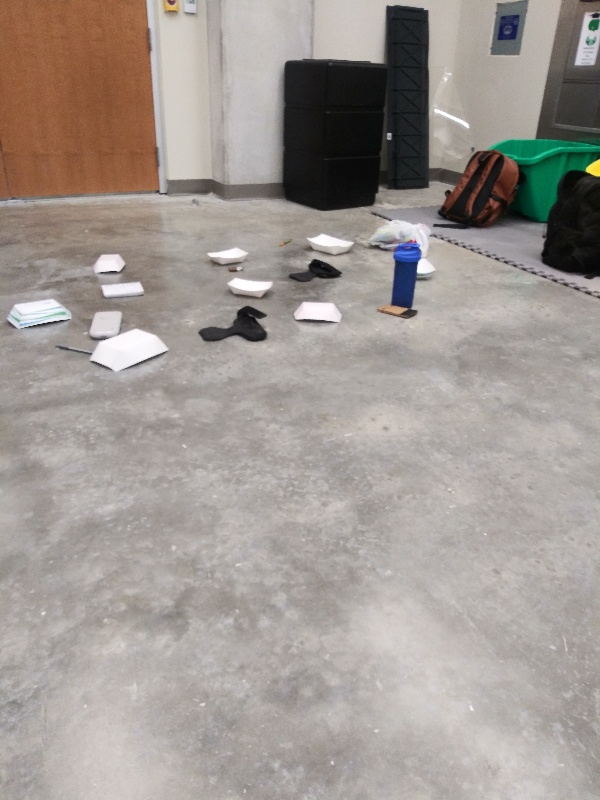plate: (86, 328, 173, 376), (3, 294, 74, 335), (302, 230, 358, 258), (224, 273, 278, 301), (290, 300, 344, 325), (203, 241, 252, 267), (90, 251, 132, 278), (415, 251, 438, 284)
